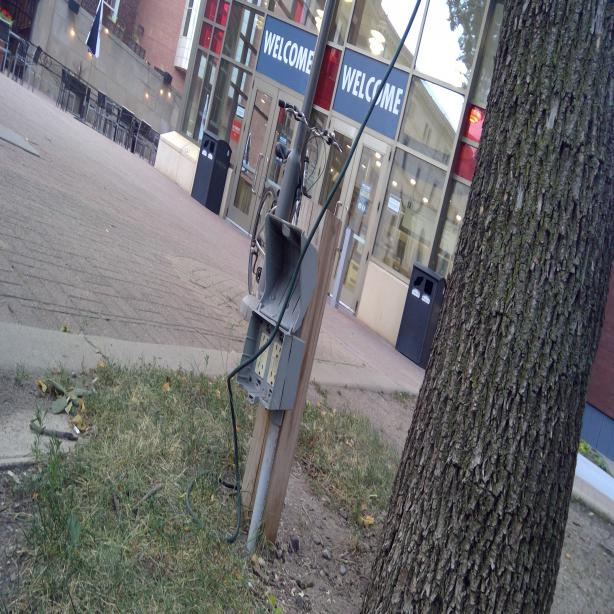typeb: (273, 341, 283, 362), (256, 358, 265, 378), (268, 368, 277, 386)
